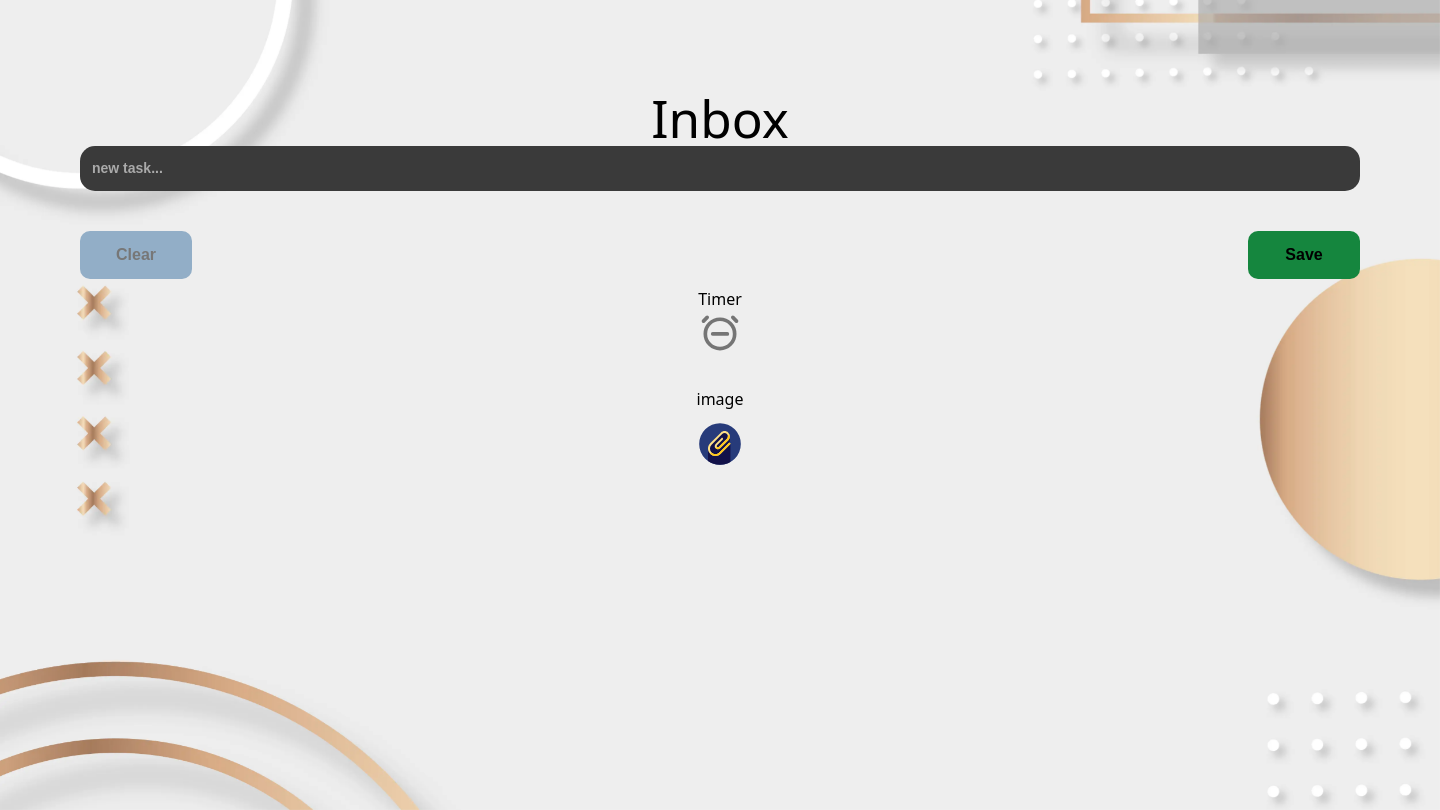
Test case: Inbox: task creation › Clear button resets the field and removes the image
This screenshot has width=1440, height=810.
Type "Some task" into the field with placeholder "new task...".
click(720, 169); type("Some task")  # box [80, 146, 1360, 191]
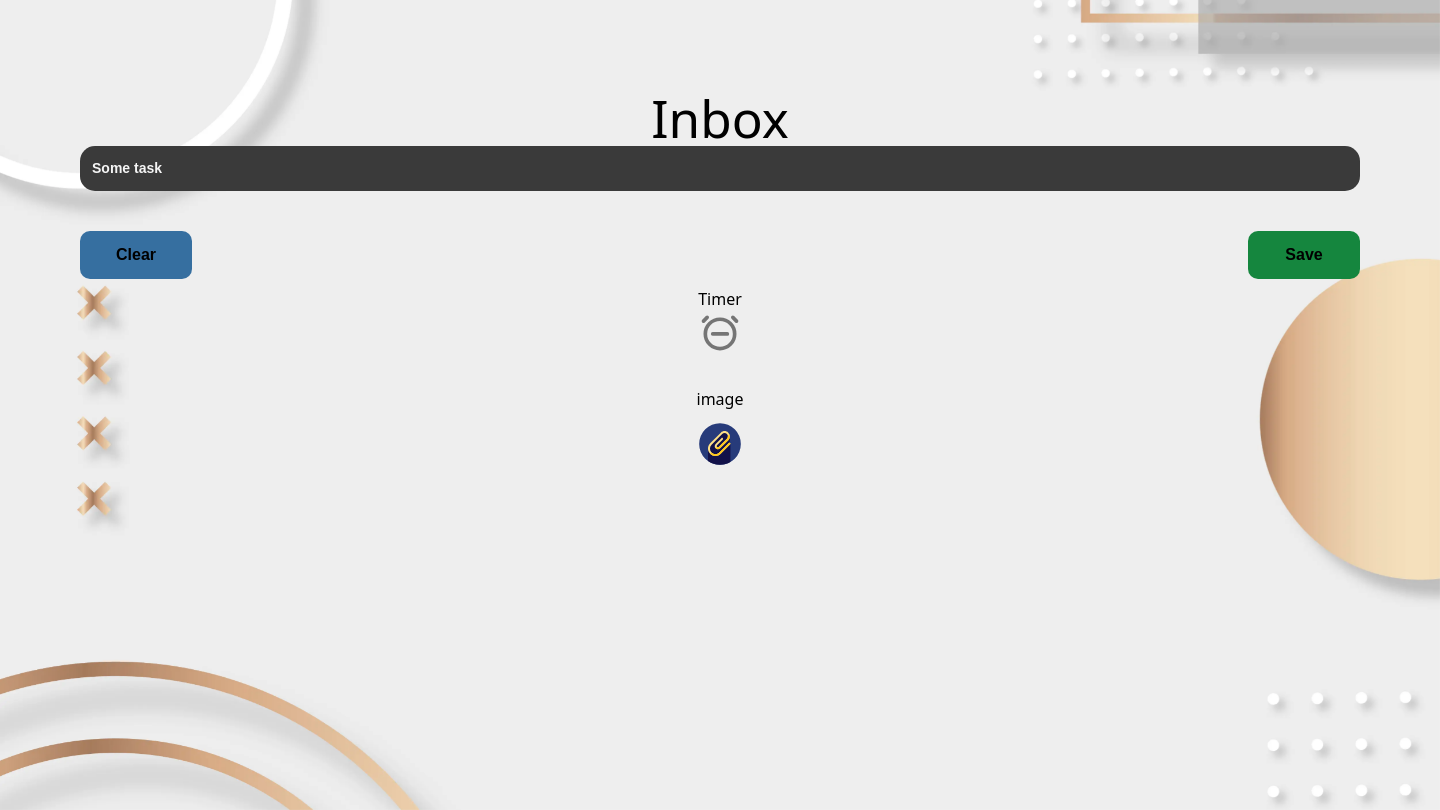
Click the button "Clear".
click(136, 255)  # box [80, 231, 192, 279]
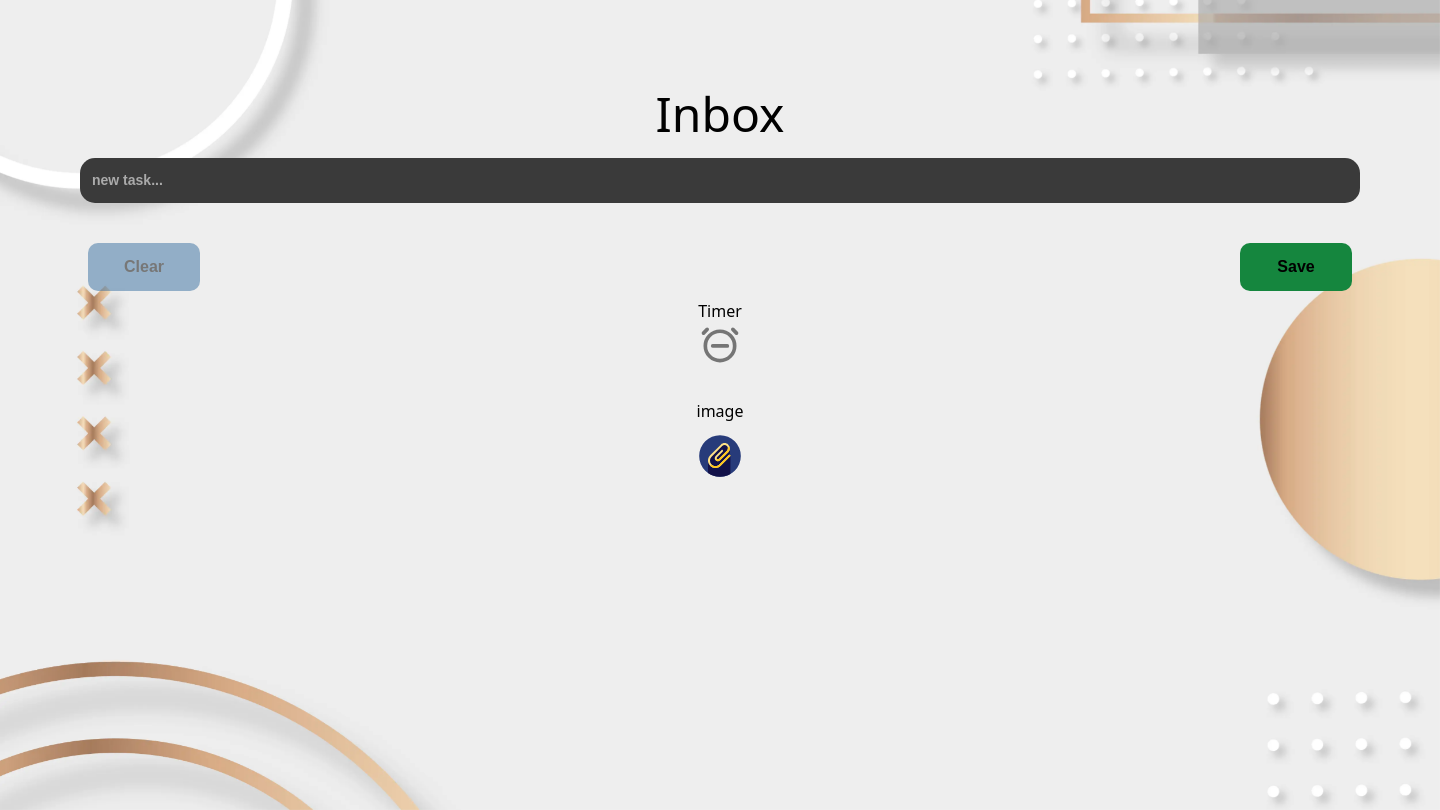
Expected: the field with placeholder "new task..." is empty, [80, 158, 1360, 203]
